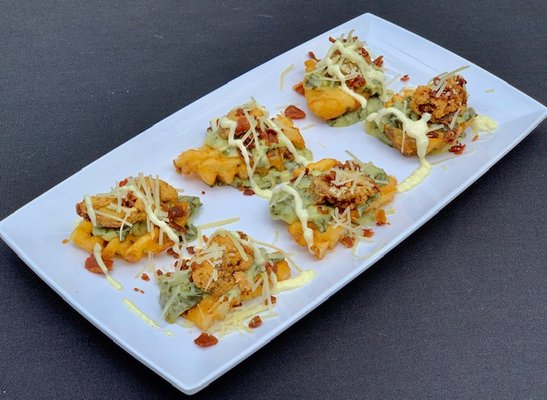curry: (3, 6, 546, 400)
